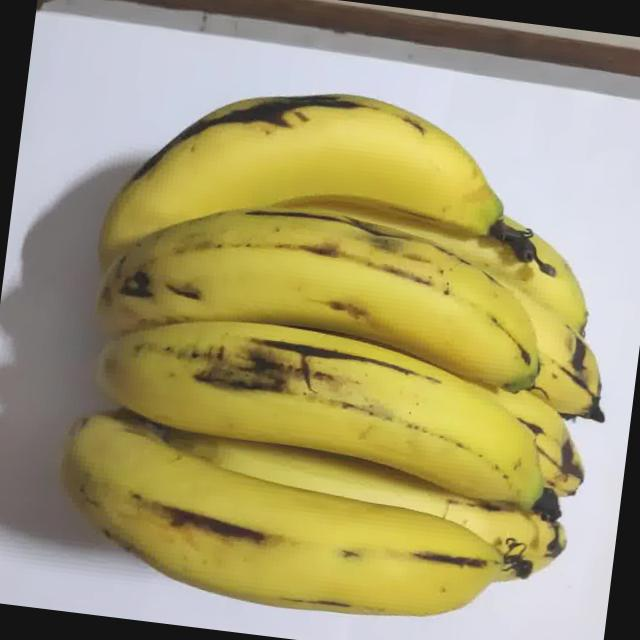banana_pacche: (38, 30, 640, 630)
